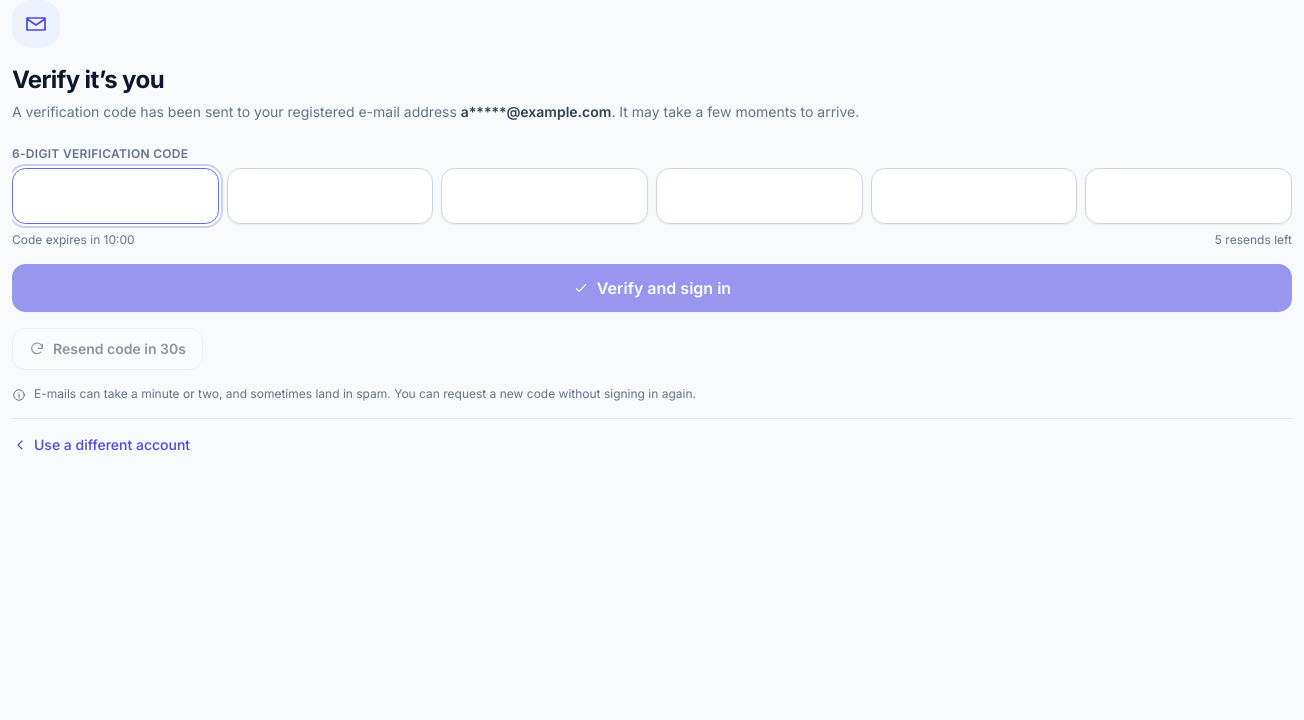
Test: LoginVerification › reports an incorrect code using the server message
This screenshot has width=1304, height=720.
Type "000000" into the field named "Digit 1 of 6".
click(115, 196); type("000000")  # box [12,168,219,224]
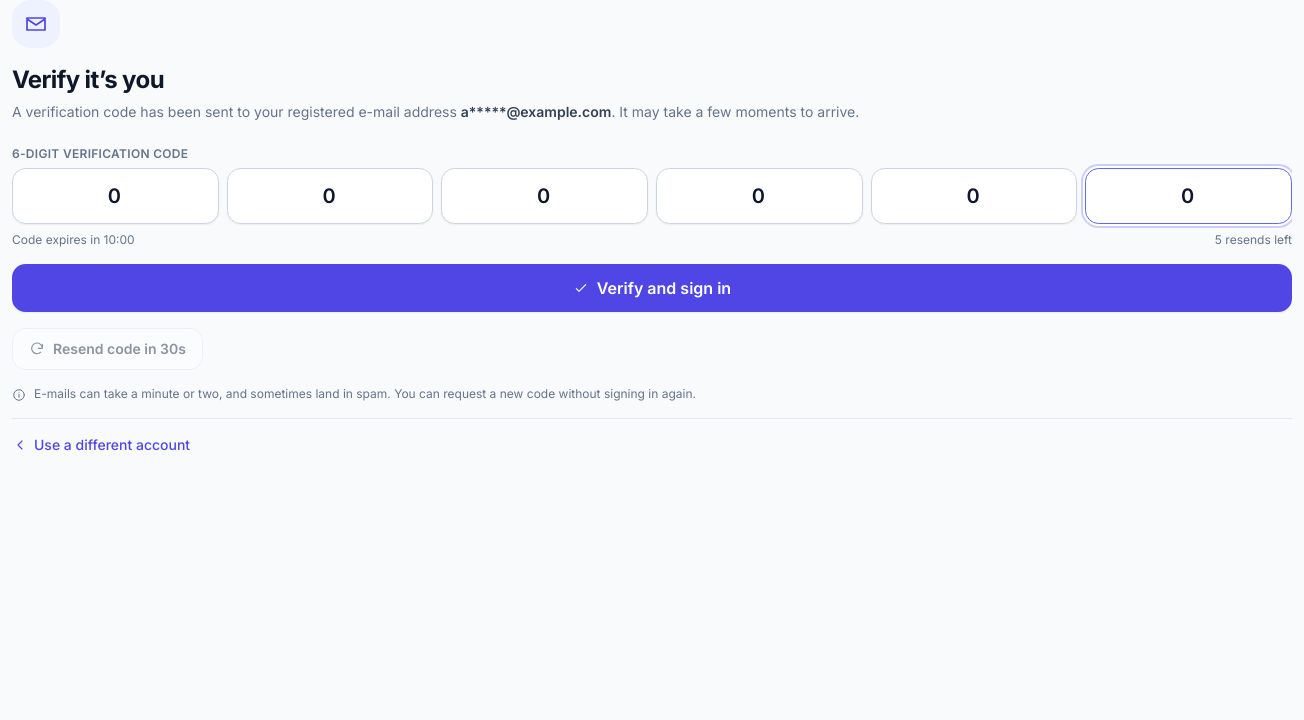
Click the button "Verify and sign in".
click(652, 288)  # box [12,264,1292,312]
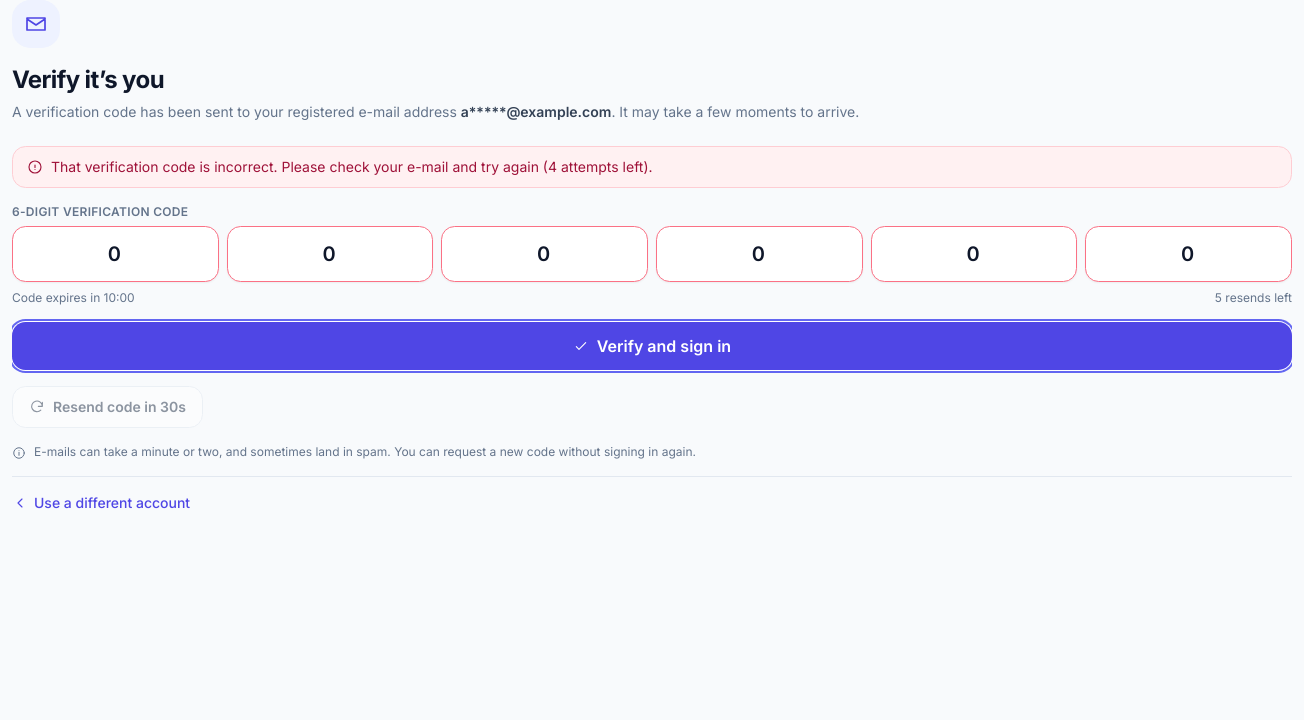
Now the text "incorrect" is shown, box [51,158,653,175]
